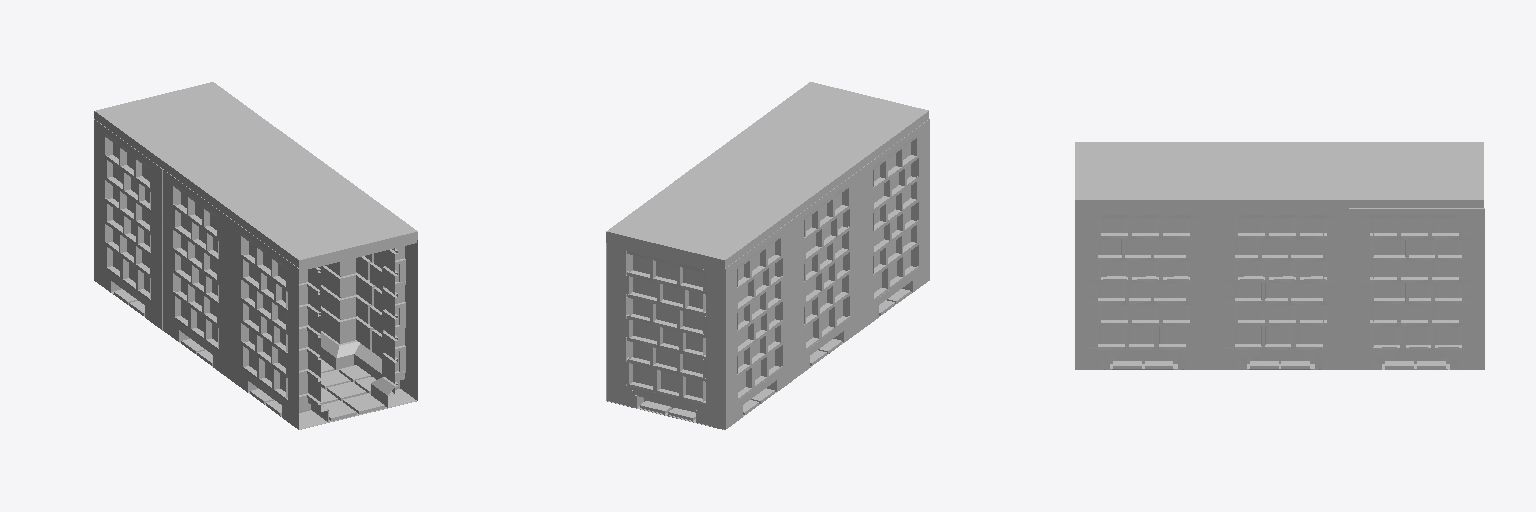
File: level(CuldeSac).obj
The picture shows the model from 3 angles: view 1: azimuth 30°, elevation 25°; view 2: azimuth 150°, elevation 25°; view 3: azimuth 270°, elevation 25°; orthographic projection.
Parts seen in each view (by area): view 1: Sol.034_Plane.112, Sol.035_Plane.113, Mur.R.004_Plane.122, Plafond.004_Cube.166; view 2: Sol.034_Plane.112, Sol.035_Plane.113, Mur.R.003_Plane.121, Mur.R.004_Plane.122, Plafond.004_Cube.166, Sol.039_Plane.120; view 3: Sol.034_Plane.112, Sol.035_Plane.113, Mur.R.005_Plane.123, Plafond.004_Cube.166.
Part boxes in pixels (left/top/right/bottom): Sol.034_Plane.112: left=230, top=181, right=417, bottom=429; Sol.035_Plane.113: left=163, top=131, right=348, bottom=378; Mur.R.004_Plane.122: left=94, top=119, right=162, bottom=330; Plafond.004_Cube.166: left=94, top=82, right=280, bottom=168; Sol.034_Plane.112: left=742, top=82, right=929, bottom=329; Sol.035_Plane.113: left=675, top=132, right=861, bottom=378; Mur.R.003_Plane.121: left=607, top=243, right=724, bottom=429; Mur.R.004_Plane.122: left=725, top=219, right=793, bottom=429; Plafond.004_Cube.166: left=606, top=181, right=793, bottom=271; Sol.039_Plane.120: left=607, top=382, right=790, bottom=429; Sol.034_Plane.112: left=1075, top=142, right=1211, bottom=369; Sol.035_Plane.113: left=1212, top=142, right=1348, bottom=369; Mur.R.005_Plane.123: left=1348, top=208, right=1484, bottom=369; Plafond.004_Cube.166: left=1348, top=142, right=1483, bottom=207.
Size of the model in its own units: 5.98 by 8.1 by 17.73.